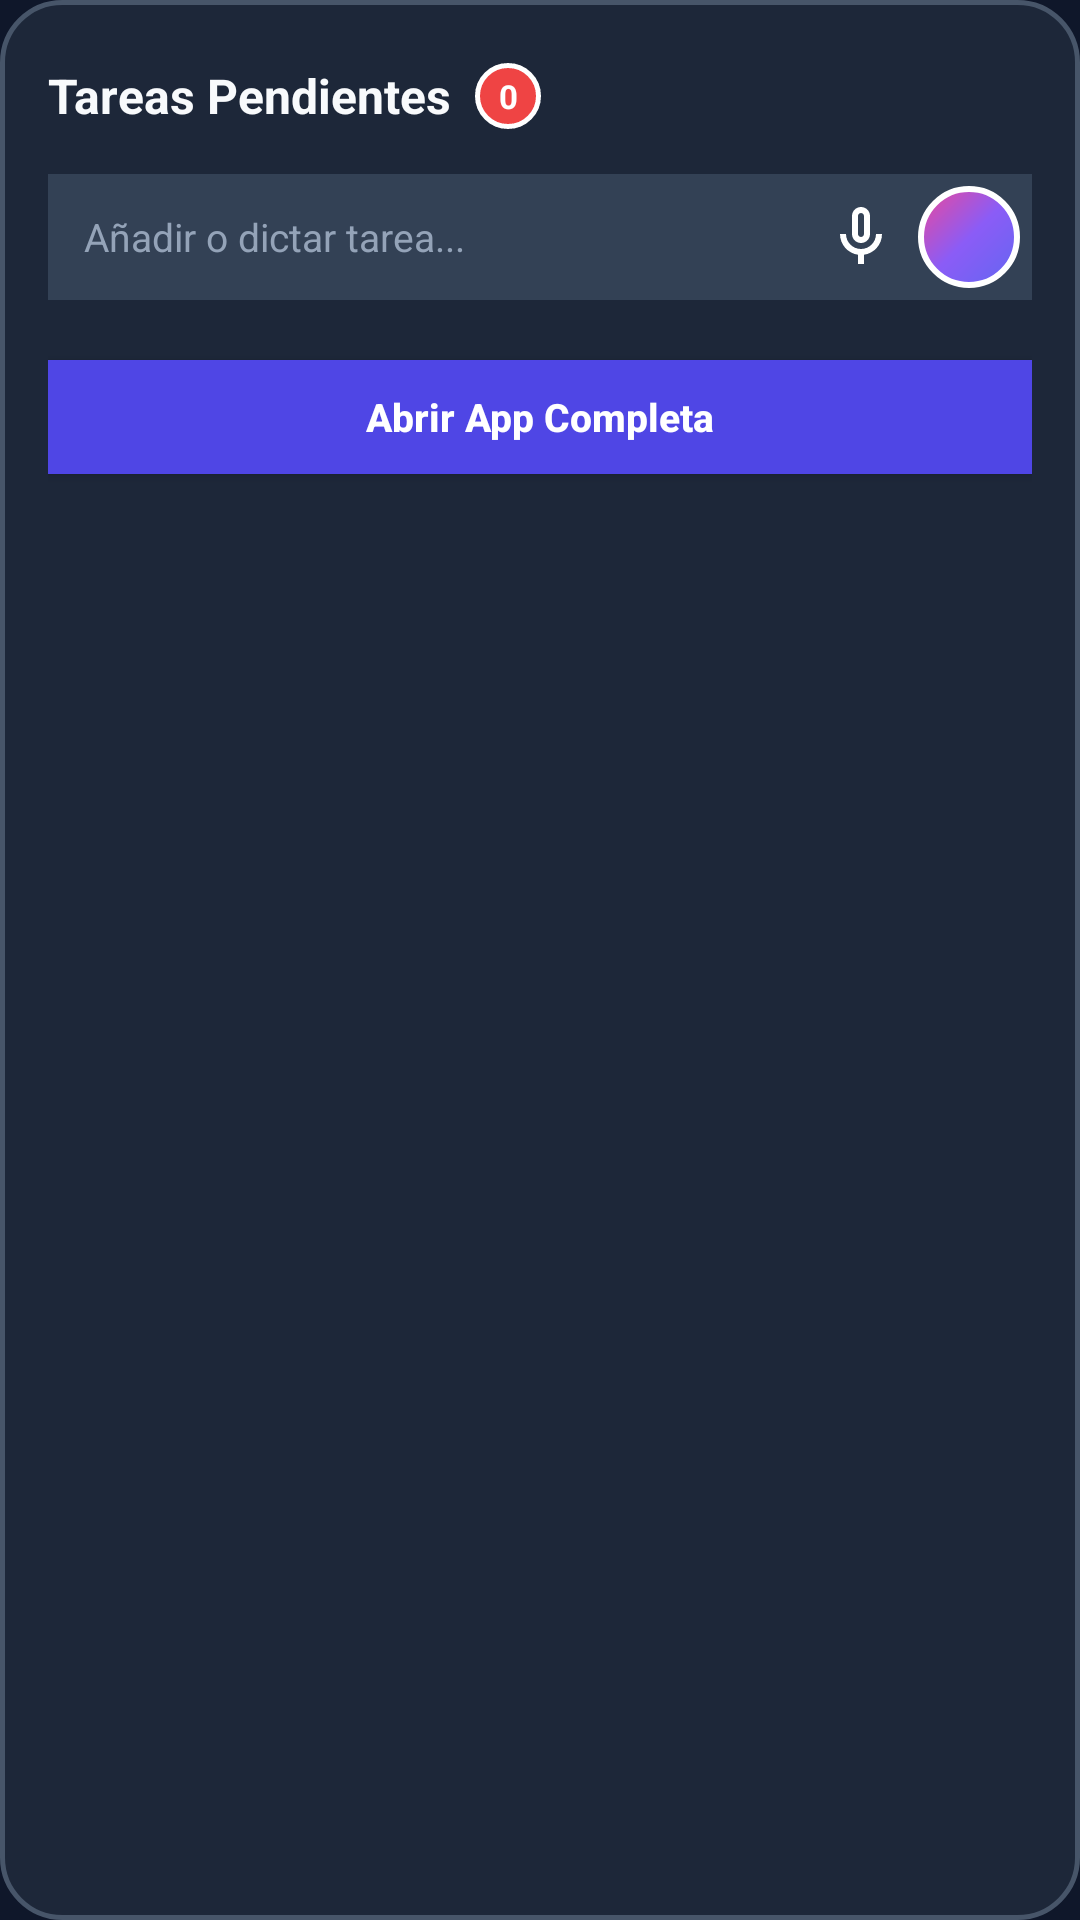

Locate icon controls on the screen. Image size 1080 × 1920, boxes as (x1, y1, x2, y2).
Dictar por voz: (840, 207, 882, 264)
